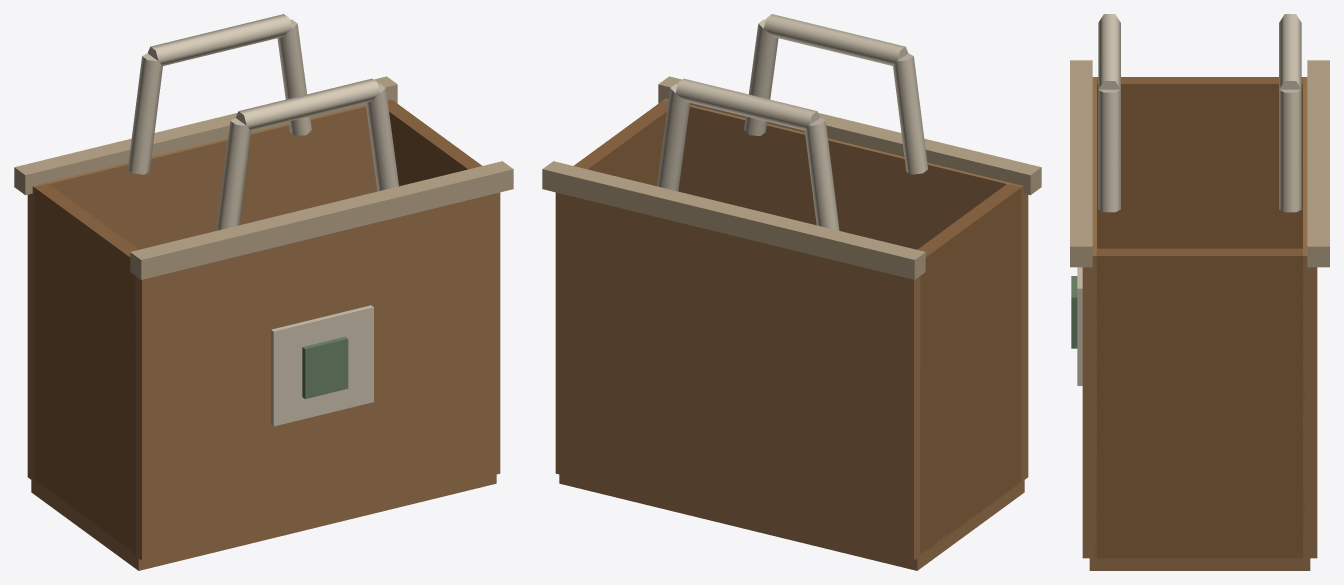
File: komachi-shopping-bag.glb
The picture shows the model from 3 angles, left to right: view 1: azimuth 30°, elevation 25°; view 2: azimuth 150°, elevation 25°; view 3: azimuth 270°, elevation 25°; orthographic projection. The views are drawn at different scales.
Visible parts, largest first — view 1: Prop_Body; view 2: Prop_Body; view 3: Prop_Body.
Part boxes in pixels (left/top/right/bottom): Prop_Body: left=14, top=14, right=513, bottom=570; Prop_Body: left=542, top=14, right=1041, bottom=570; Prop_Body: left=1070, top=14, right=1329, bottom=570.
Size of the model in its own units: 0.0702 by 0.0763 by 0.0414.
